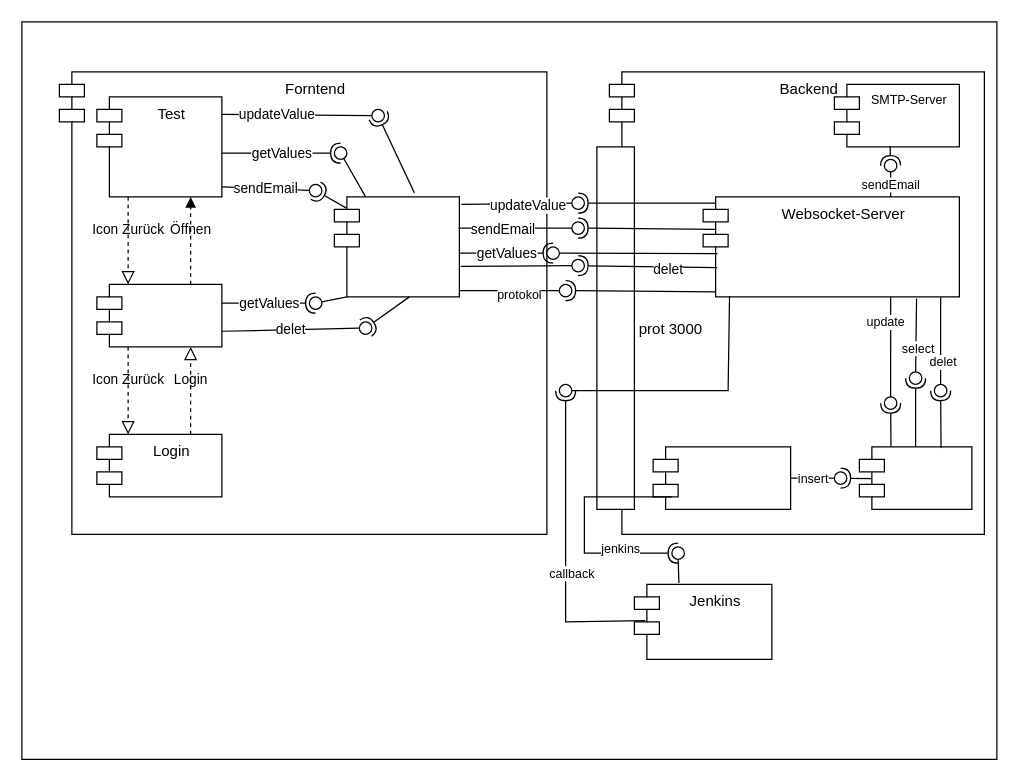
Image size: 1019x781. Some labels were removed from this diagram. The box of each missing label's shape, as (x1, y1, x2, y2) in pixels:
Datenbank: (858, 446, 972, 509)
HTTP-Server: (652, 446, 791, 509)
TestHosts: (96, 283, 222, 347)
Websocket-Client: (333, 196, 459, 297)
